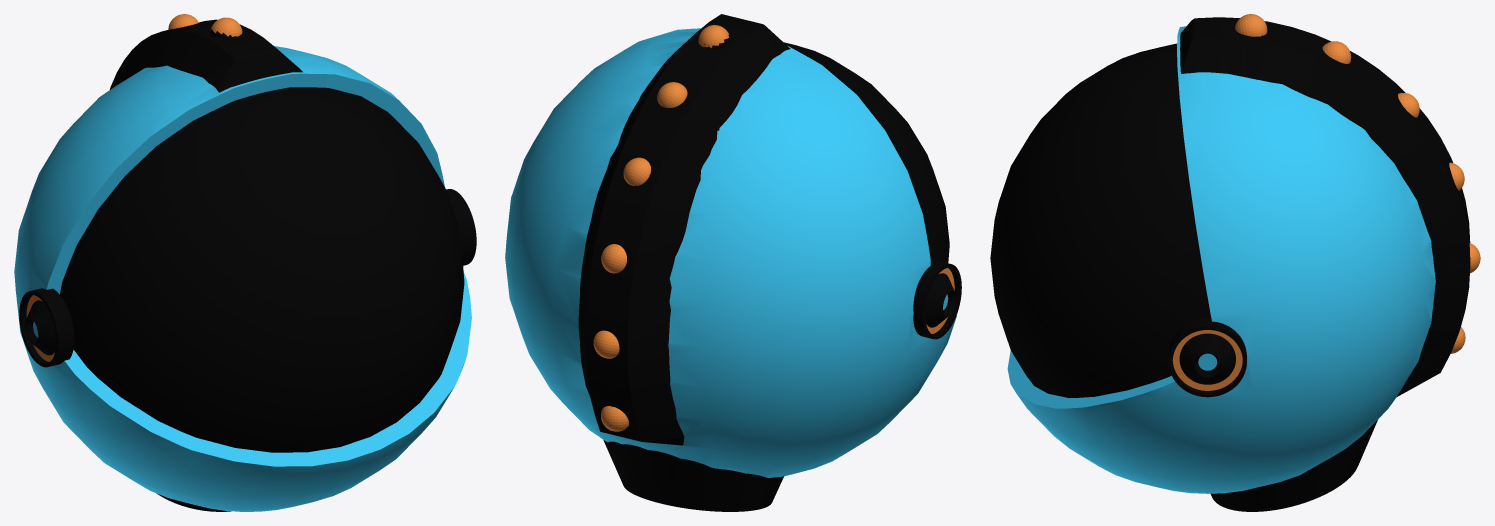
The model's file is helmet2.fbx.
3 views of the same model, side by side, from view 1: azimuth 30°, elevation 25°; view 2: azimuth 150°, elevation 25°; view 3: azimuth 270°, elevation 25° (orthographic).
Visible parts, largest first — view 1: Helmet; view 2: Helmet; view 3: Helmet.
Boxes of the visible parts, bbox=[...] form: Helmet: bbox=[14, 14, 476, 511]; Helmet: bbox=[505, 14, 961, 511]; Helmet: bbox=[990, 14, 1480, 511].
Bounding box in the file's own units: 55.21 × 57.93 × 54.01.
